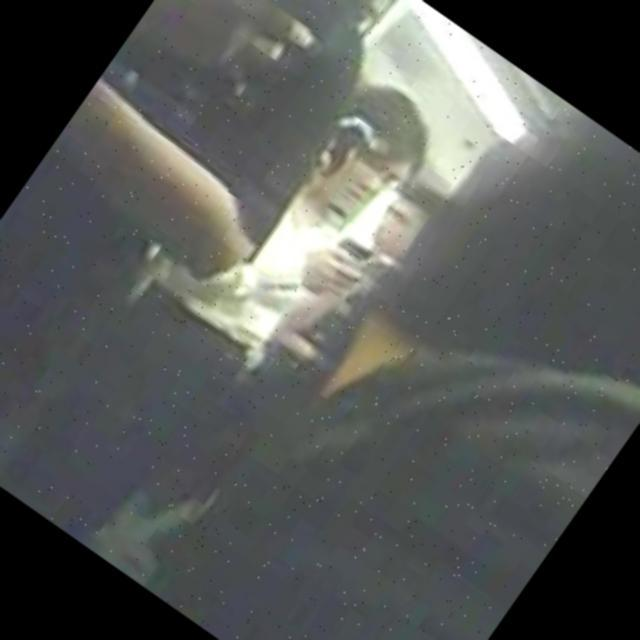person: (6, 31, 454, 578), (0, 0, 426, 528), (256, 158, 464, 404)
